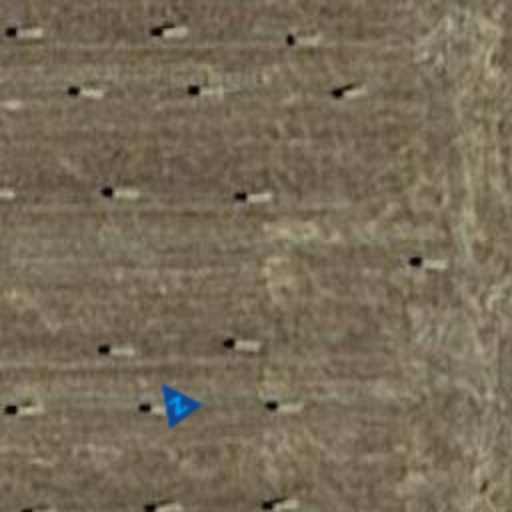triangle: (142, 368, 206, 432)
